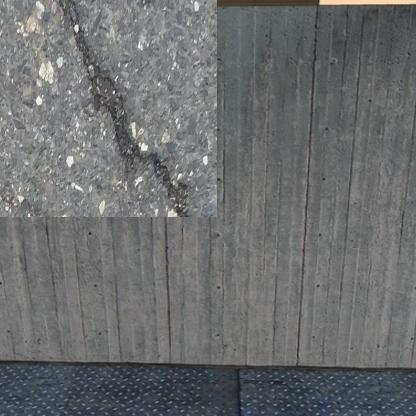Cracks: (47, 0, 179, 200)
